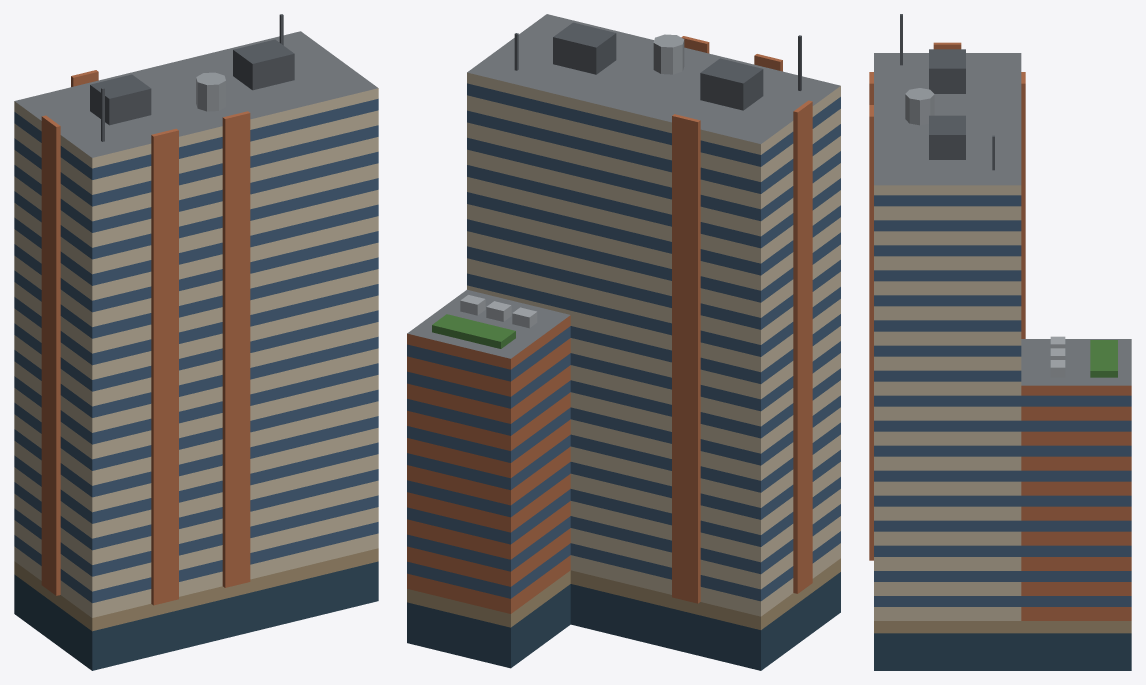
File: building_2.glb
The picture shows the model from 3 angles, left to right: view 1: azimuth 30°, elevation 25°; view 2: azimuth 150°, elevation 25°; view 3: azimuth 270°, elevation 25°; orthographic projection. The views are drawn at different scales.
Visible parts, largest first — view 1: Building; view 2: Building; view 3: Building.
Part boxes in pixels (x1,y1,x2,y2): Building: [14, 14, 378, 670]; Building: [407, 14, 840, 670]; Building: [869, 14, 1131, 670].
Bounding box in the file's own units: 34.5 × 64.2 × 28.5.
